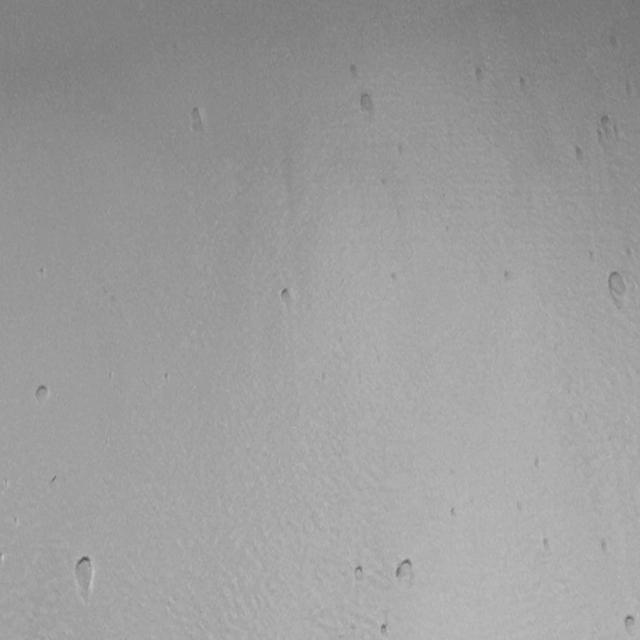pin holes: (603, 270, 633, 312), (70, 553, 96, 599), (184, 106, 209, 140), (391, 556, 417, 588), (596, 114, 618, 147), (354, 90, 378, 120), (274, 282, 297, 312), (620, 612, 639, 640), (351, 563, 372, 587), (32, 384, 52, 409), (470, 65, 490, 90), (570, 142, 588, 168), (605, 32, 624, 56), (538, 535, 557, 558), (515, 74, 532, 96), (386, 268, 402, 287), (597, 538, 612, 557), (502, 266, 514, 289), (377, 621, 393, 638), (347, 61, 361, 80), (446, 505, 461, 522), (395, 140, 407, 160), (624, 242, 636, 262), (162, 367, 174, 385), (533, 457, 546, 473), (49, 473, 61, 490), (38, 265, 50, 281), (379, 173, 390, 189), (12, 515, 22, 528), (0, 550, 7, 567)
